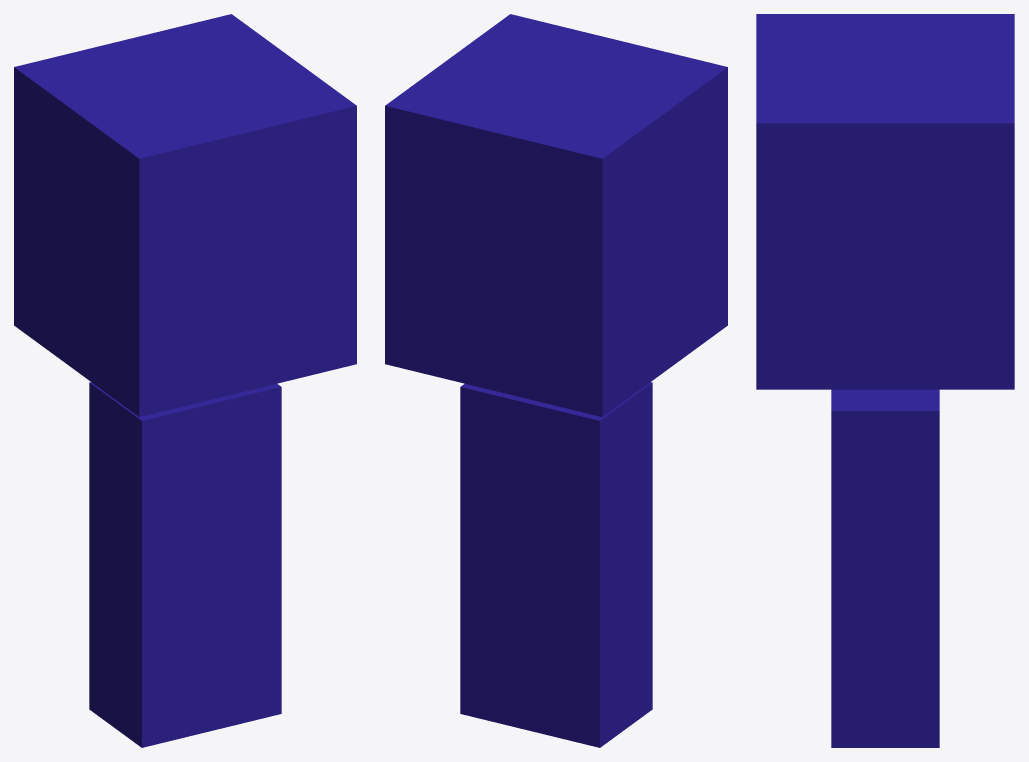
Rendered from ellenor.FBX.
The picture shows the model from 3 angles, left to right: view 1: azimuth 30°, elevation 25°; view 2: azimuth 150°, elevation 25°; view 3: azimuth 270°, elevation 25°; orthographic projection. The views are drawn at different scales.
Parts seen in each view (by area): view 1: ellenor; view 2: ellenor; view 3: ellenor.
Boxes of the visible parts, x1,y1,x2,y2 form: ellenor: [14, 14, 356, 747]; ellenor: [385, 14, 727, 747]; ellenor: [756, 14, 1014, 747].
Size of the model in its own units: 18.74 by 51.47 by 18.7.
